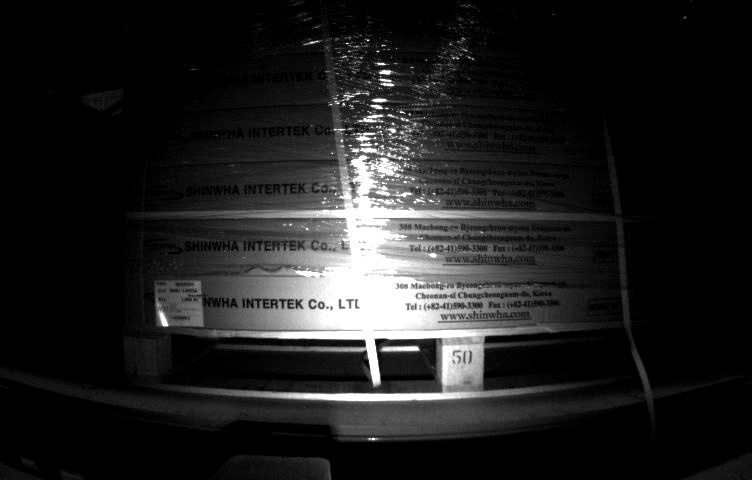True Barcode: (151, 278, 206, 328)
